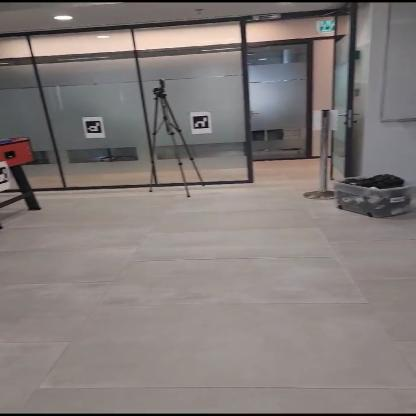open: (249, 38, 332, 182)
